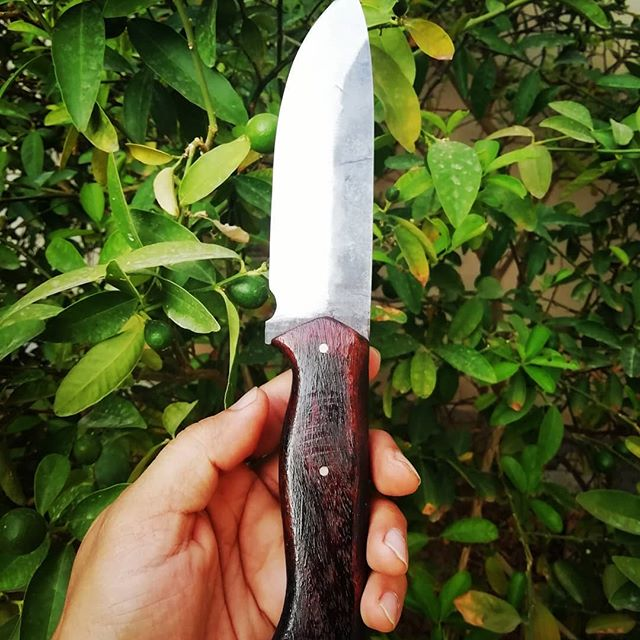knife: (264, 1, 375, 640)
